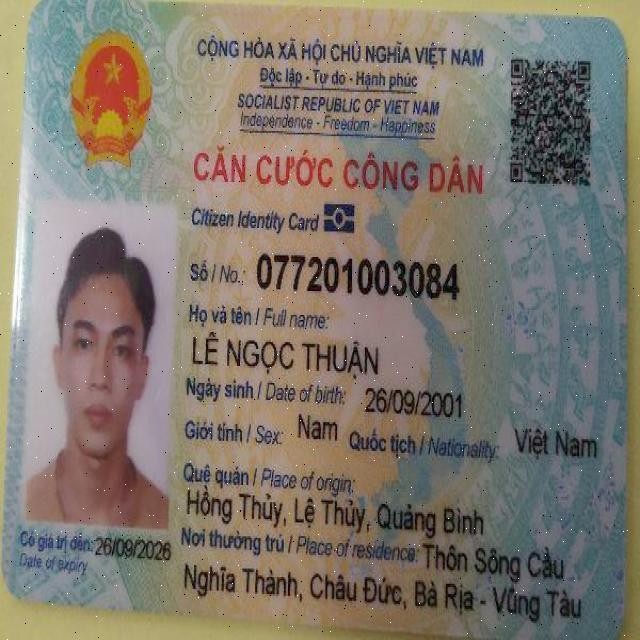current_place: (180, 557, 587, 625), (420, 537, 567, 583)
dob: (361, 384, 463, 423)
expire_date: (91, 533, 173, 565)
gender: (294, 412, 341, 448)
id: (250, 244, 458, 302)
name: (190, 326, 386, 384)
nationality: (507, 420, 599, 464)
origin_place: (185, 484, 486, 544)
